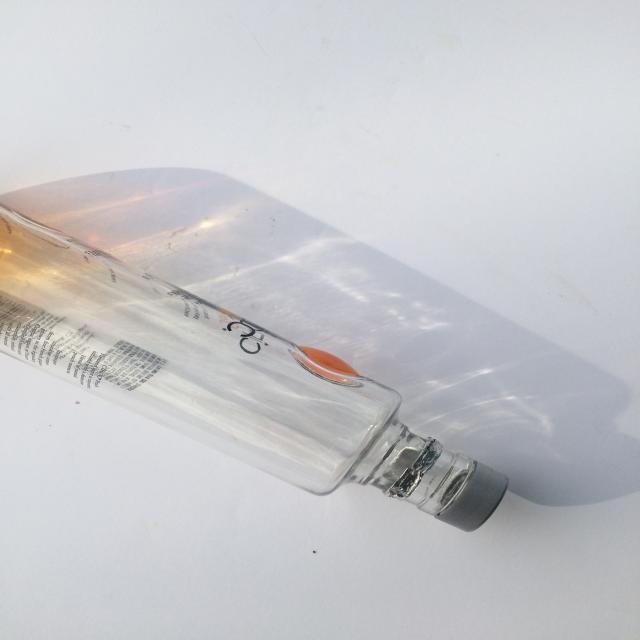glass: (1, 202, 510, 534)
